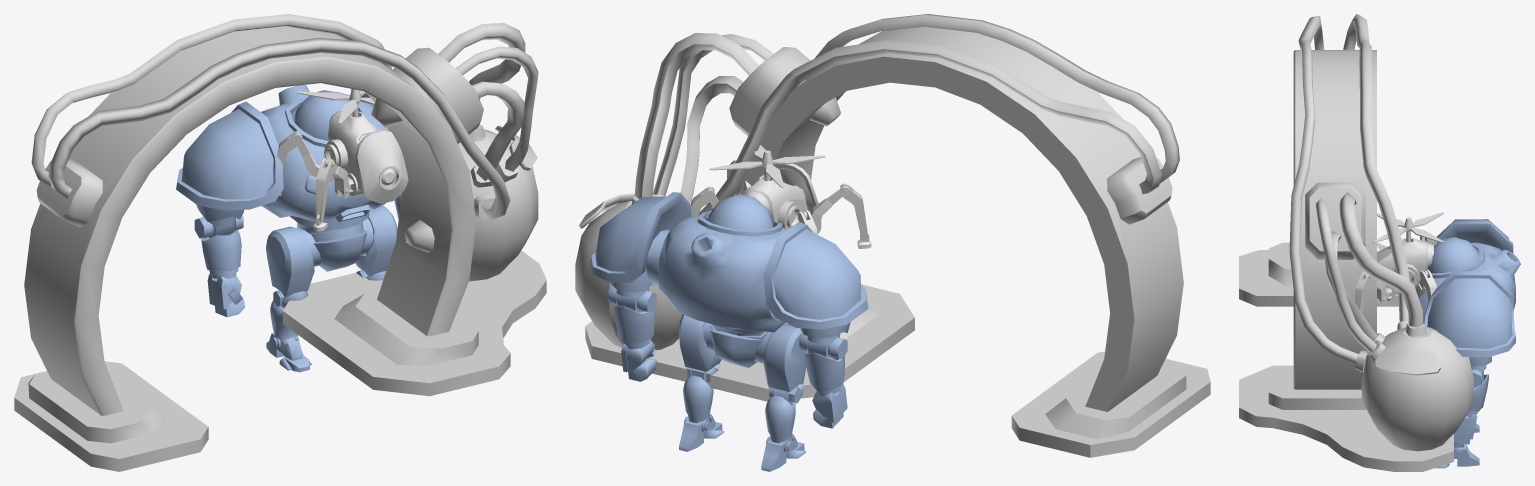
File: TZ_atlas_unity.fbx
3 views of the same model, side by side, from view 1: azimuth 30°, elevation 25°; view 2: azimuth 150°, elevation 25°; view 3: azimuth 270°, elevation 25° (orthographic). The views are drawn at different scales.
Visible parts, largest first — view 1: Portal.011_low, Portal.004_low, mesh.005_low, Portal.001_low, mesh.001_low, Portal.003_low, mesh.007_low, dron.001_low, Portal.002_low, dron.005_low, Portal.005_low, Portal.006_low (+10 smaller); view 2: Portal.011_low, mesh.005_low, mesh.001_low, Portal.003_low, Portal.004_low, Portal.001_low, Portal.002_low, mesh.007_low, mesh.011_low, Portal.005_low, mesh.015_low, mesh.014_low (+12 smaller); view 3: Portal.011_low, Portal.001_low, mesh.005_low, Portal.004_low, Portal.003_low, Portal.002_low, Portal.005_low, mesh.001_low, dron.005_low, mesh.022_low, Portal.006_low, dron.006_low (+5 smaller).
Boxes of the visible parts, x1,y1,x2,y2 form: Portal.011_low: (14, 26, 546, 471); Portal.004_low: (48, 38, 510, 220); mesh.005_low: (176, 89, 374, 210); Portal.001_low: (401, 126, 538, 281); mesh.001_low: (261, 85, 386, 221); Portal.003_low: (31, 14, 391, 187); mesh.007_low: (266, 205, 397, 296); dron.001_low: (355, 130, 408, 203); Portal.002_low: (438, 23, 525, 129); dron.005_low: (324, 110, 379, 196); Portal.005_low: (455, 46, 538, 171); Portal.006_low: (472, 81, 524, 180); Portal.011_low: (585, 26, 1210, 457); mesh.005_low: (589, 192, 868, 329); mesh.001_low: (658, 210, 787, 332); Portal.003_low: (699, 40, 1161, 214); Portal.004_low: (736, 14, 1179, 194); Portal.001_low: (575, 193, 682, 350); Portal.002_low: (634, 33, 758, 198); mesh.007_low: (678, 314, 807, 392); mesh.011_low: (614, 305, 844, 395); Portal.005_low: (653, 34, 773, 195); mesh.015_low: (683, 375, 795, 443); mesh.014_low: (621, 340, 847, 428); Portal.011_low: (1239, 50, 1453, 471); Portal.001_low: (1355, 321, 1473, 451); mesh.005_low: (1423, 219, 1515, 356); Portal.004_low: (1289, 16, 1358, 364); Portal.003_low: (1343, 14, 1409, 321); Portal.002_low: (1339, 192, 1423, 327); Portal.005_low: (1315, 198, 1376, 352); mesh.001_low: (1414, 242, 1520, 322); dron.005_low: (1377, 237, 1433, 301); mesh.022_low: (1427, 237, 1479, 273); Portal.006_low: (1324, 231, 1377, 340); dron.006_low: (1373, 212, 1444, 242).
Size of the model in its own units: 805 by 576 by 446.
